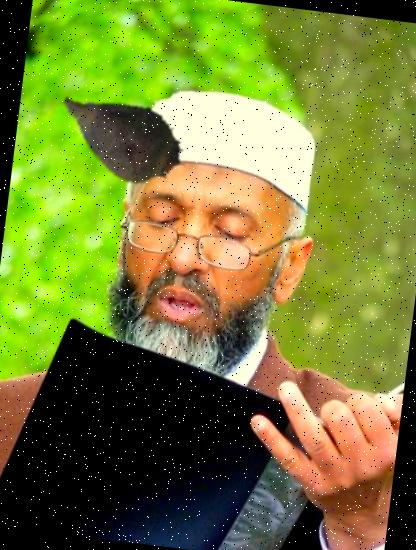Beetroot: (42, 57, 200, 216)
